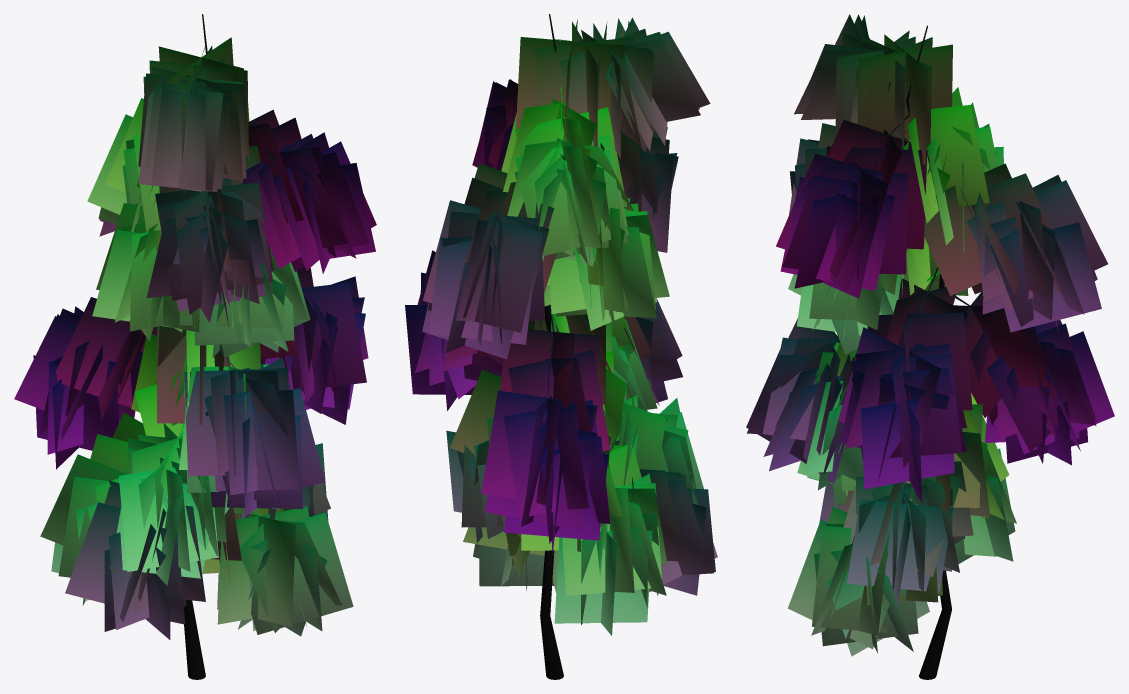
The model's file is M_P13_Tree_1.fbx.
The picture shows the model from 3 angles, left to right: view 1: azimuth 30°, elevation 25°; view 2: azimuth 150°, elevation 25°; view 3: azimuth 270°, elevation 25°; orthographic projection.
Parts seen in each view (by area): view 1: Tree_1; view 2: Tree_1; view 3: Tree_1.
Part boxes in pixels (x1,y1,x2,y2): Tree_1: [14, 14, 376, 679]; Tree_1: [405, 14, 717, 679]; Tree_1: [746, 14, 1114, 679].
Size of the model in its own units: 378 by 782 by 400.
